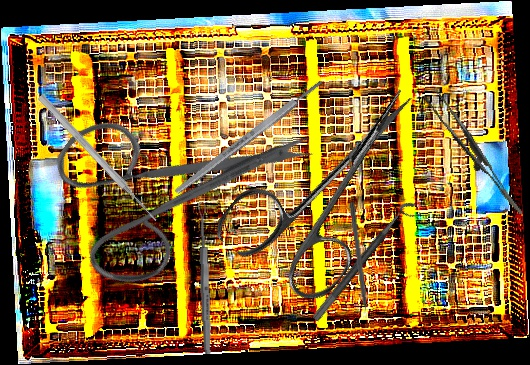Fixation Ring: (311, 197, 424, 330)
Iris Scissors: (16, 22, 322, 336), (209, 51, 456, 313)
Pusher: (36, 92, 160, 225), (347, 201, 371, 328)
Scalpel Handle: (171, 77, 327, 197)
Surgical Spoon: (197, 202, 213, 355)
Tissue Forceps: (423, 81, 523, 228)
